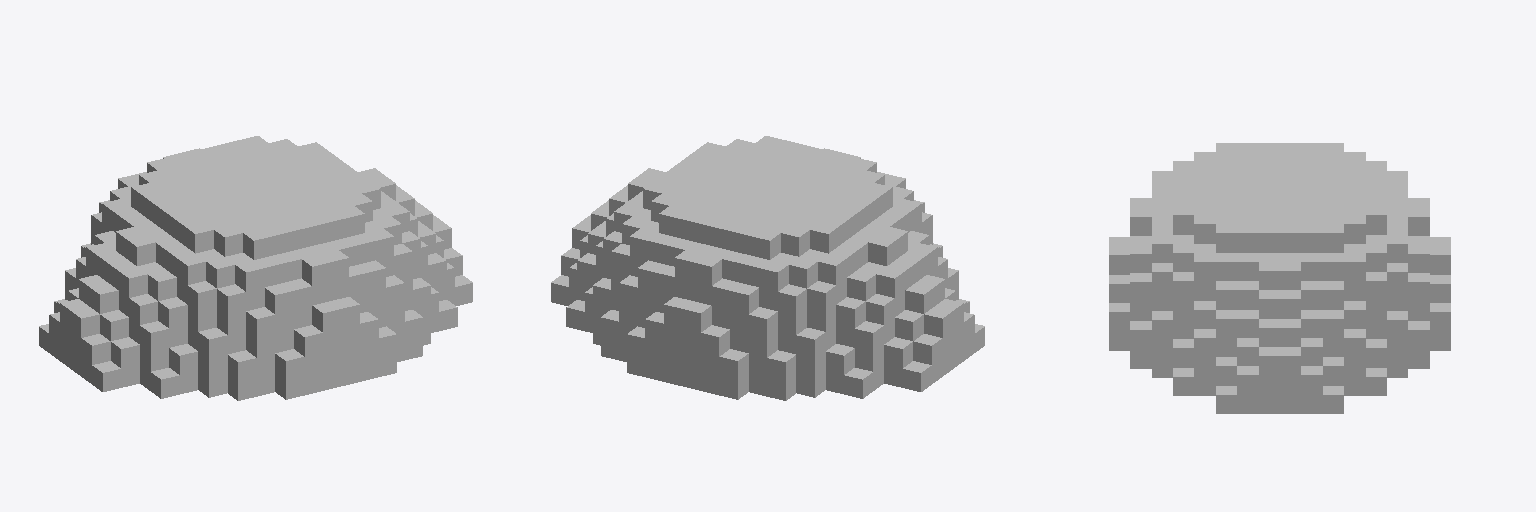
File: Snowdrift_2.obj
3 renders of one model, left to right at view 1: azimuth 30°, elevation 25°; view 2: azimuth 150°, elevation 25°; view 3: azimuth 270°, elevation 25°, orthographic.
Visible parts, largest first — view 1: object 1; view 2: object 1; view 3: object 1.
Part boxes in pixels (x1,y1,x2,y2): object 1: (39,136,472,400); object 1: (551,136,984,400); object 1: (1109,143,1450,413).
Size of the model in its own units: 2 by 0.7 by 1.6.